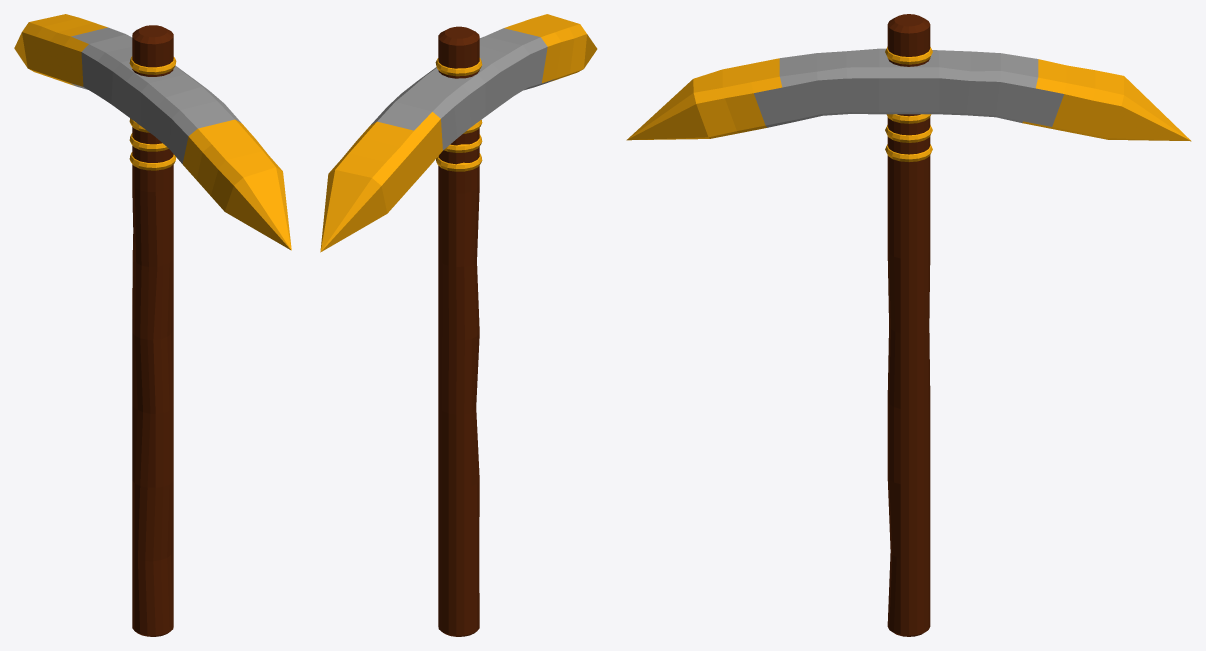
File: GoldPickaxe.fbx
3 views of the same model, side by side, from view 1: azimuth 30°, elevation 25°; view 2: azimuth 150°, elevation 25°; view 3: azimuth 270°, elevation 25° (orthographic). The views are drawn at different scales.
Visible parts, largest first — view 1: Torus.001; view 2: Torus.001; view 3: Torus.001.
Part boxes in pixels (x1=…): Torus.001: x1=14, y1=14, x2=291, y2=636; Torus.001: x1=320, y1=14, x2=597, y2=636; Torus.001: x1=626, y1=14, x2=1191, y2=636.
Bounding box in the file's own units: 71.87 × 751 × 632.
